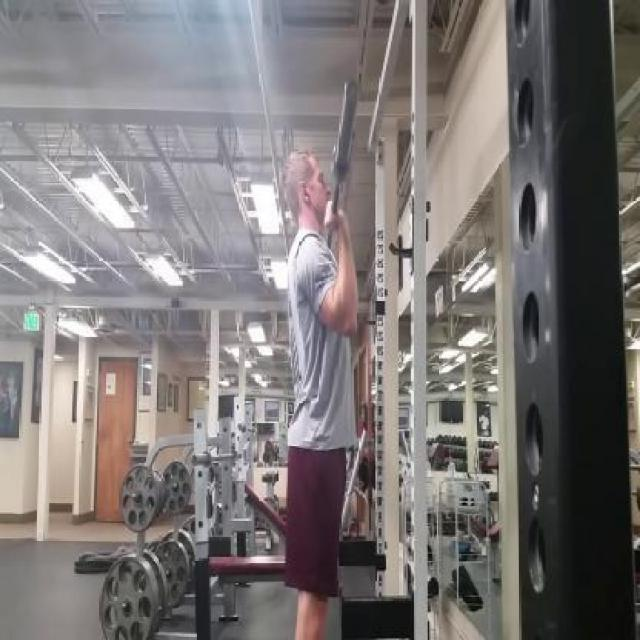Barbell: (340, 74, 365, 111)
